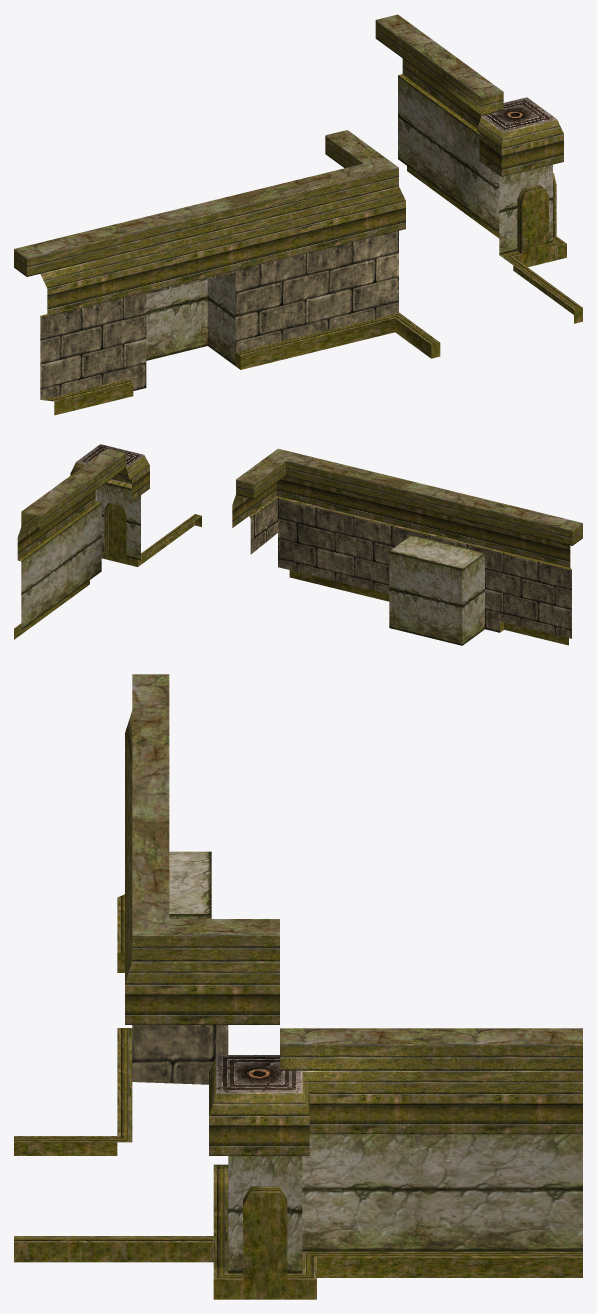
Rendered from OVERHILL_A_01_DWARF_STEP02.fbx.
The picture shows the model from 3 angles, top to bottom: view 1: azimuth 30°, elevation 25°; view 2: azimuth 150°, elevation 25°; view 3: azimuth 270°, elevation 25°; orthographic projection. The views are drawn at different scales.
Parts seen in each view (by area): view 1: OVERHILL_A_01_DWARF_STEP02; view 2: OVERHILL_A_01_DWARF_STEP02; view 3: OVERHILL_A_01_DWARF_STEP02.
Boxes of the visible parts, x1,y1,x2,y2 form: OVERHILL_A_01_DWARF_STEP02: (14, 14, 582, 415); OVERHILL_A_01_DWARF_STEP02: (14, 444, 582, 645); OVERHILL_A_01_DWARF_STEP02: (14, 674, 582, 1299).
Bounding box in the file's own units: 127401 × 34000 × 77001.
Materials: 8 (8 with a texture image).
